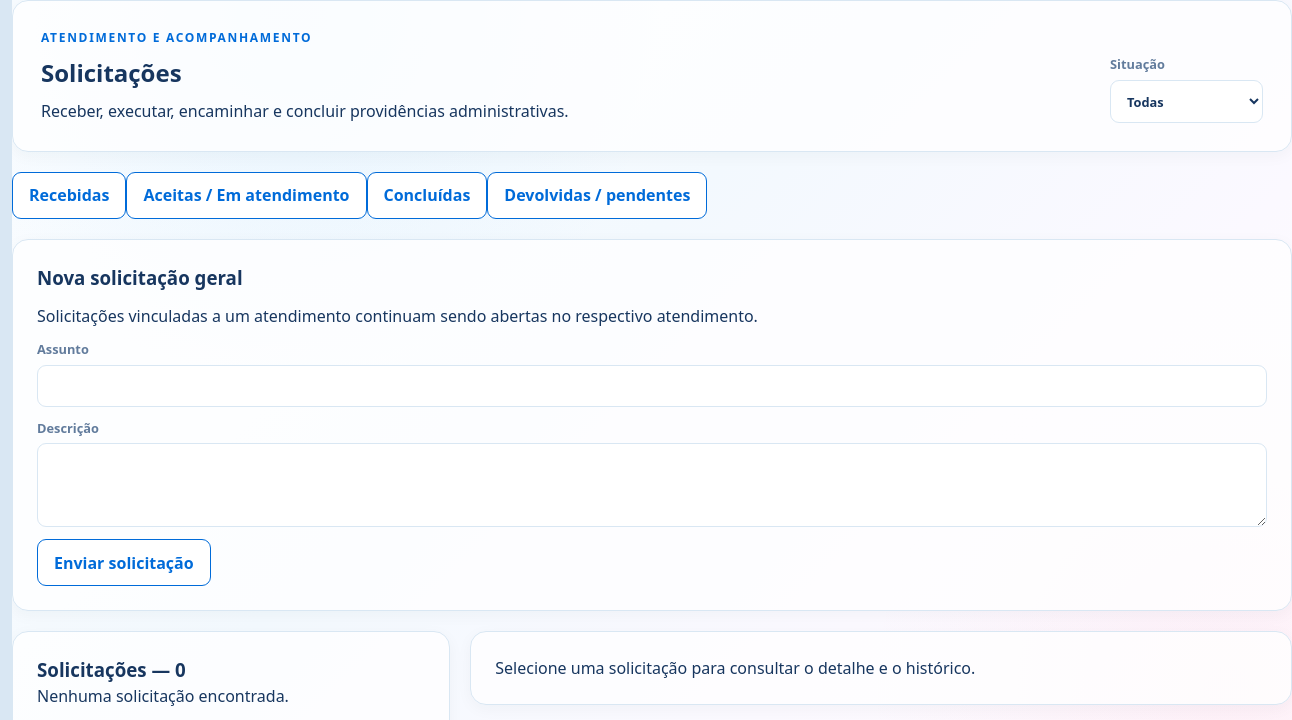
Test: RequestsPage › cria uma solicitação pela operação injetada e recarrega a lista
Expected: the text "Nenhuma solicitação encontrada." is shown, [37,685,289,707]
In the field labelled "Assunto": (652, 386) [37,365,1267,407], type "Apoio administrativo"
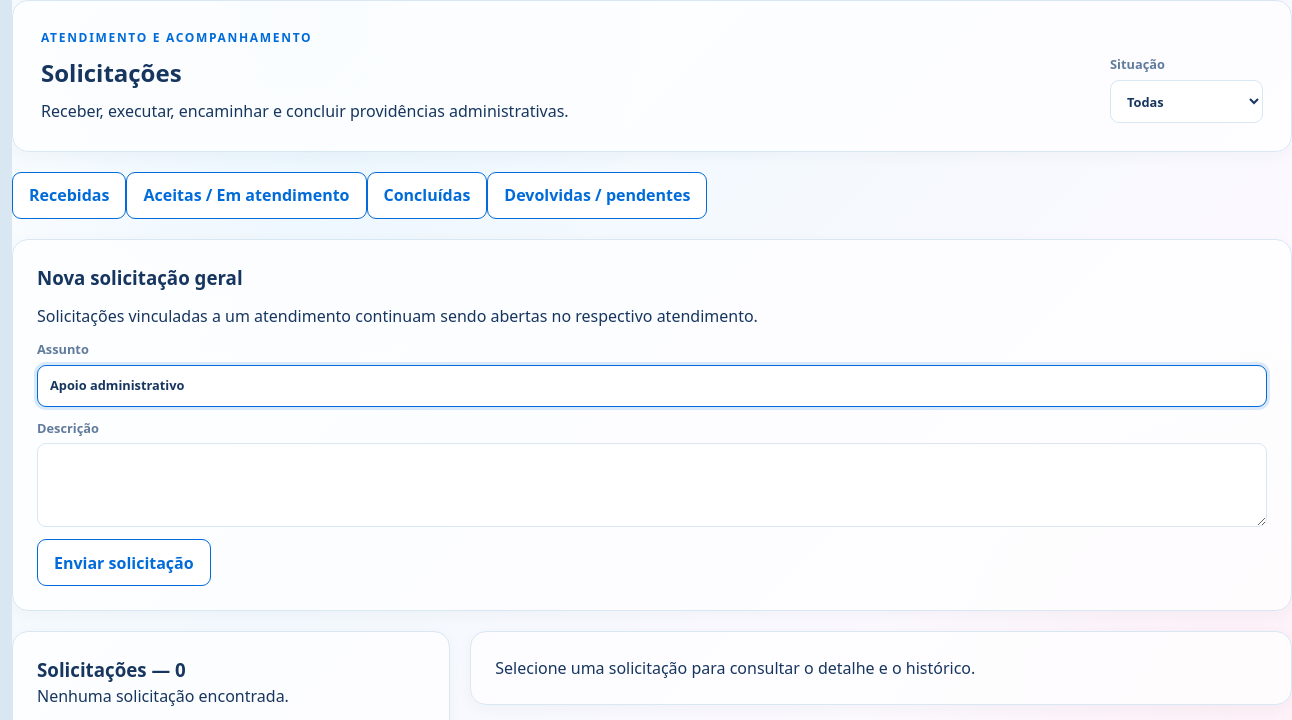
In the text box labelled "Descrição": (652, 485) [37,443,1267,527], type "Providência administrativa necessária"
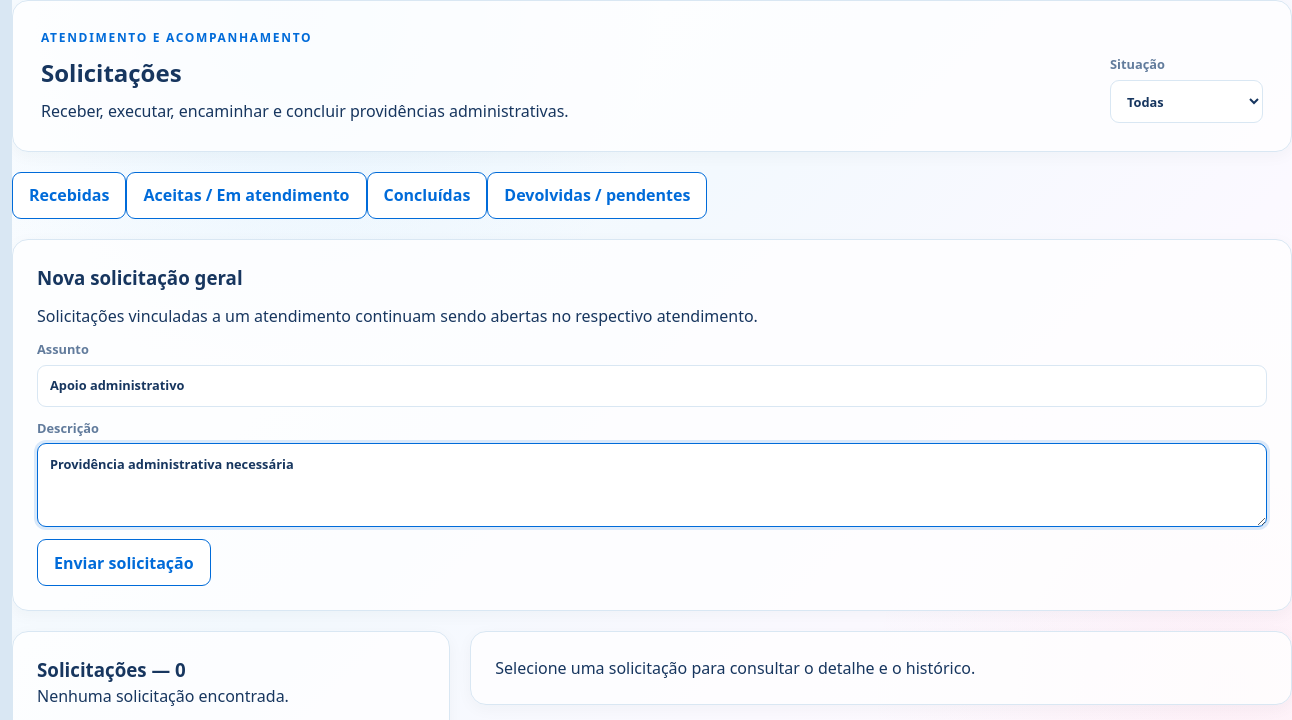
Click the button "Enviar solicitação": (124, 563) [37,539,211,586]
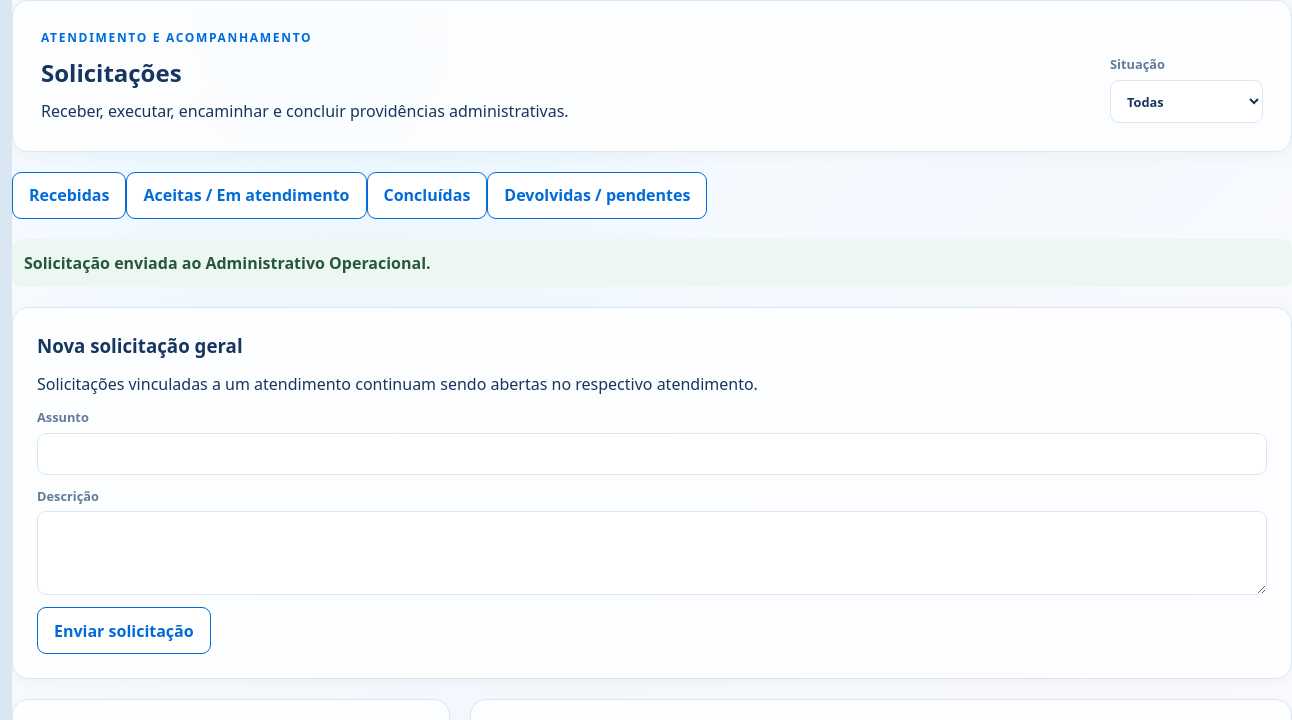
Expected: the text "Solicitação enviada ao Administrativo Operacional." is shown, [12,239,1291,287]
